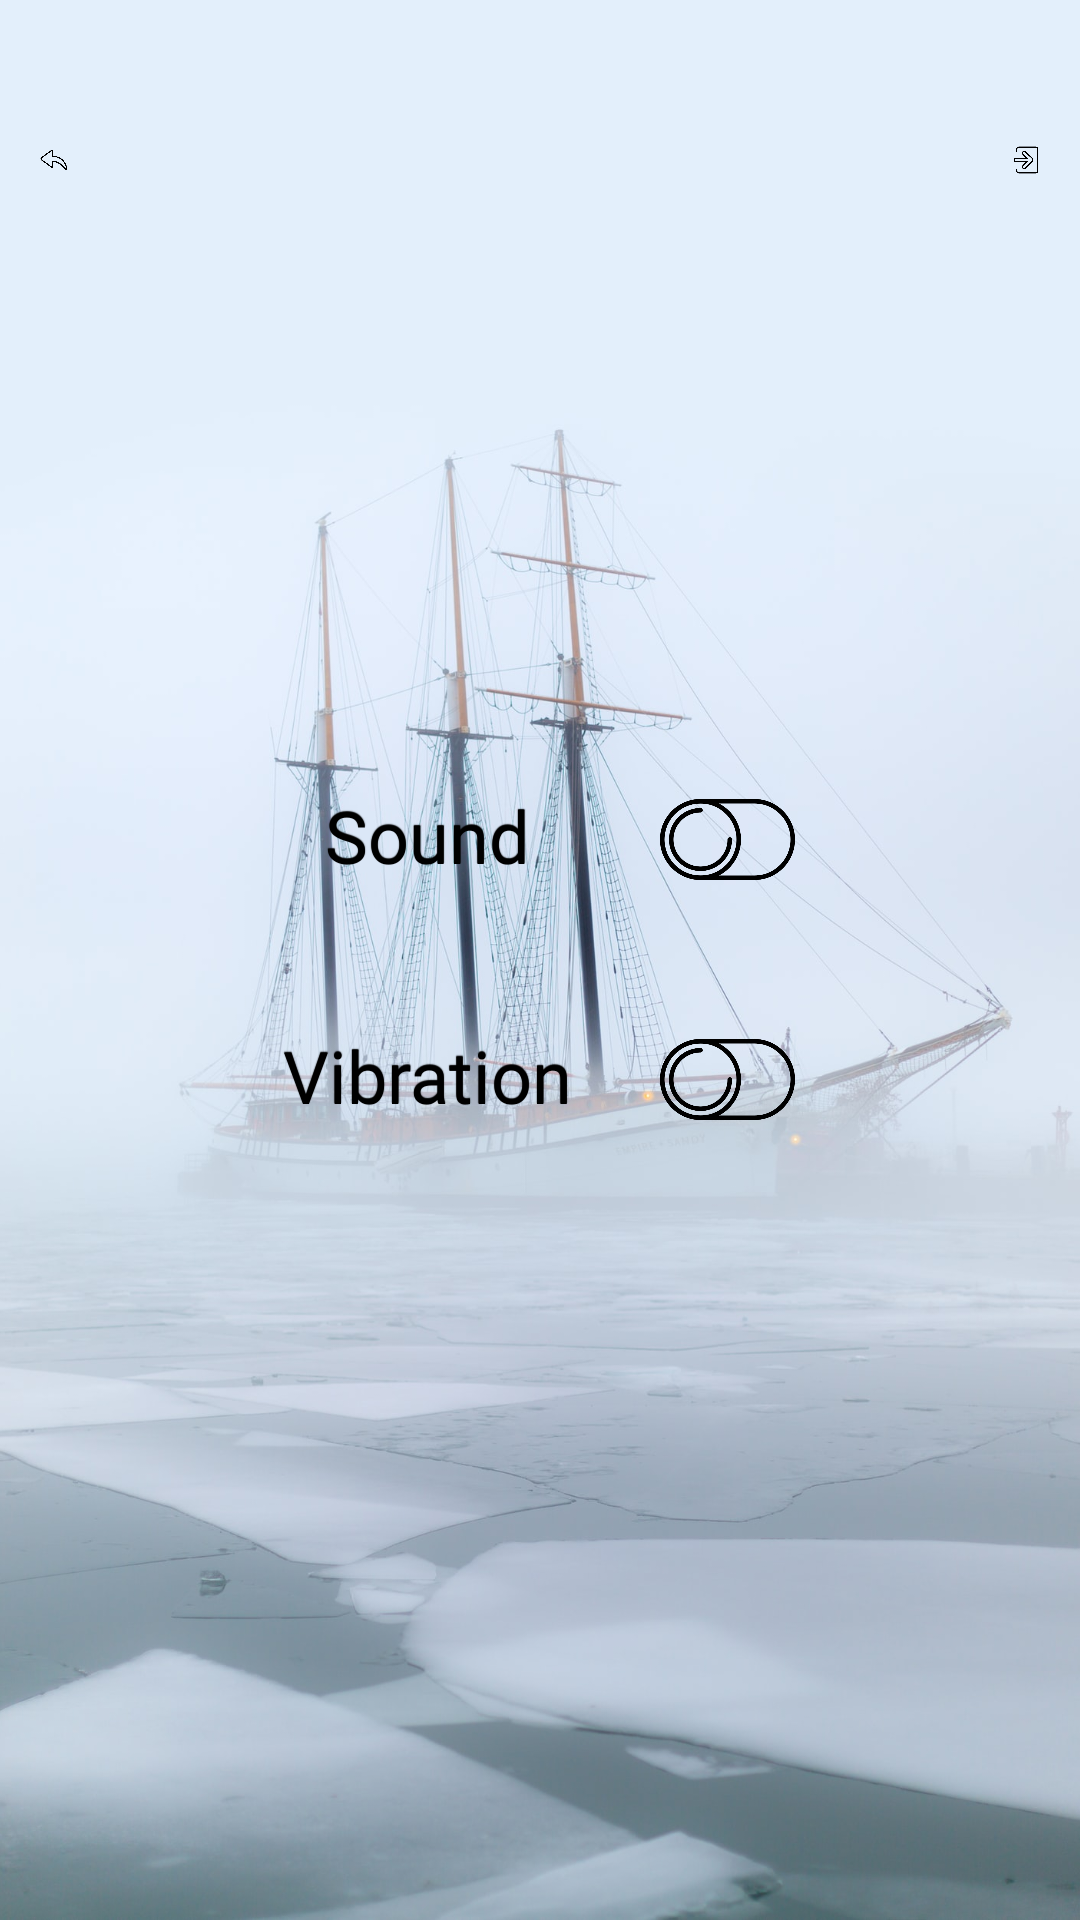

Screen size 1080 × 1920. Icon name, then its box in pixels as (x1, y1, x2, y2):
Exit: (1014, 146, 1038, 174)
